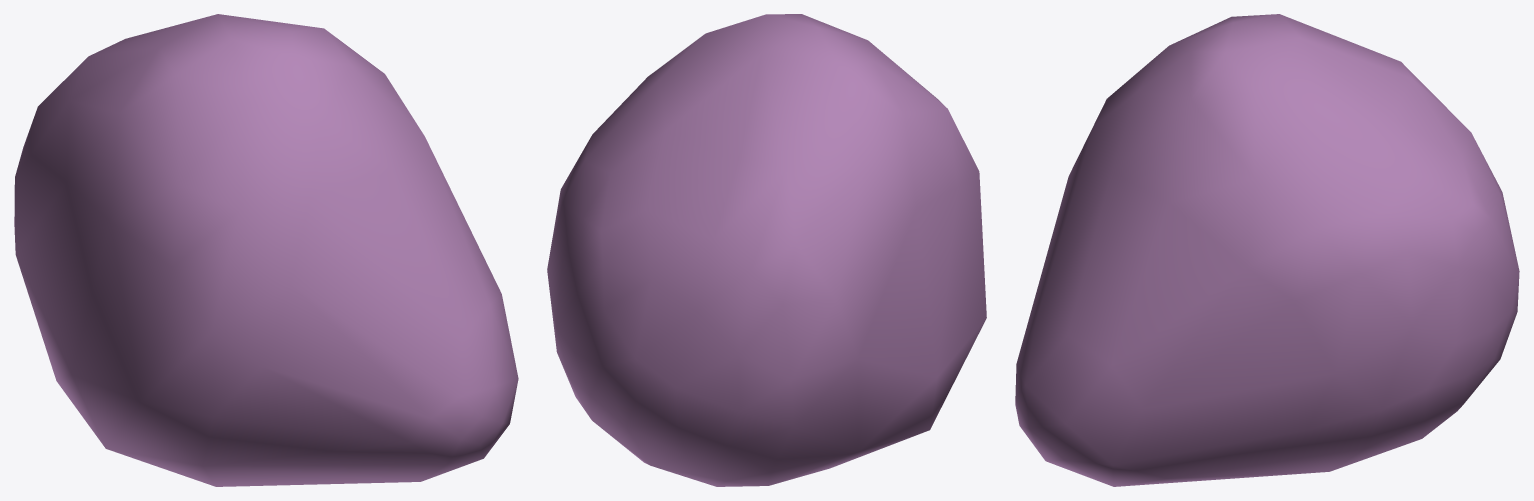
The picture shows the model from 3 angles, left to right: view 1: azimuth 30°, elevation 25°; view 2: azimuth 150°, elevation 25°; view 3: azimuth 270°, elevation 25°; orthographic projection. The views are drawn at different scales.
Visible parts, largest first — view 1: 左侧乳头体; view 2: 左侧乳头体; view 3: 左侧乳头体.
Boxes of the visible parts, bbox=[...] form: 左侧乳头体: bbox=[14, 14, 518, 486]; 左侧乳头体: bbox=[547, 14, 986, 486]; 左侧乳头体: bbox=[1015, 14, 1519, 486].
Size of the model in its own units: 0.00565 by 0.00652 by 0.00718.
